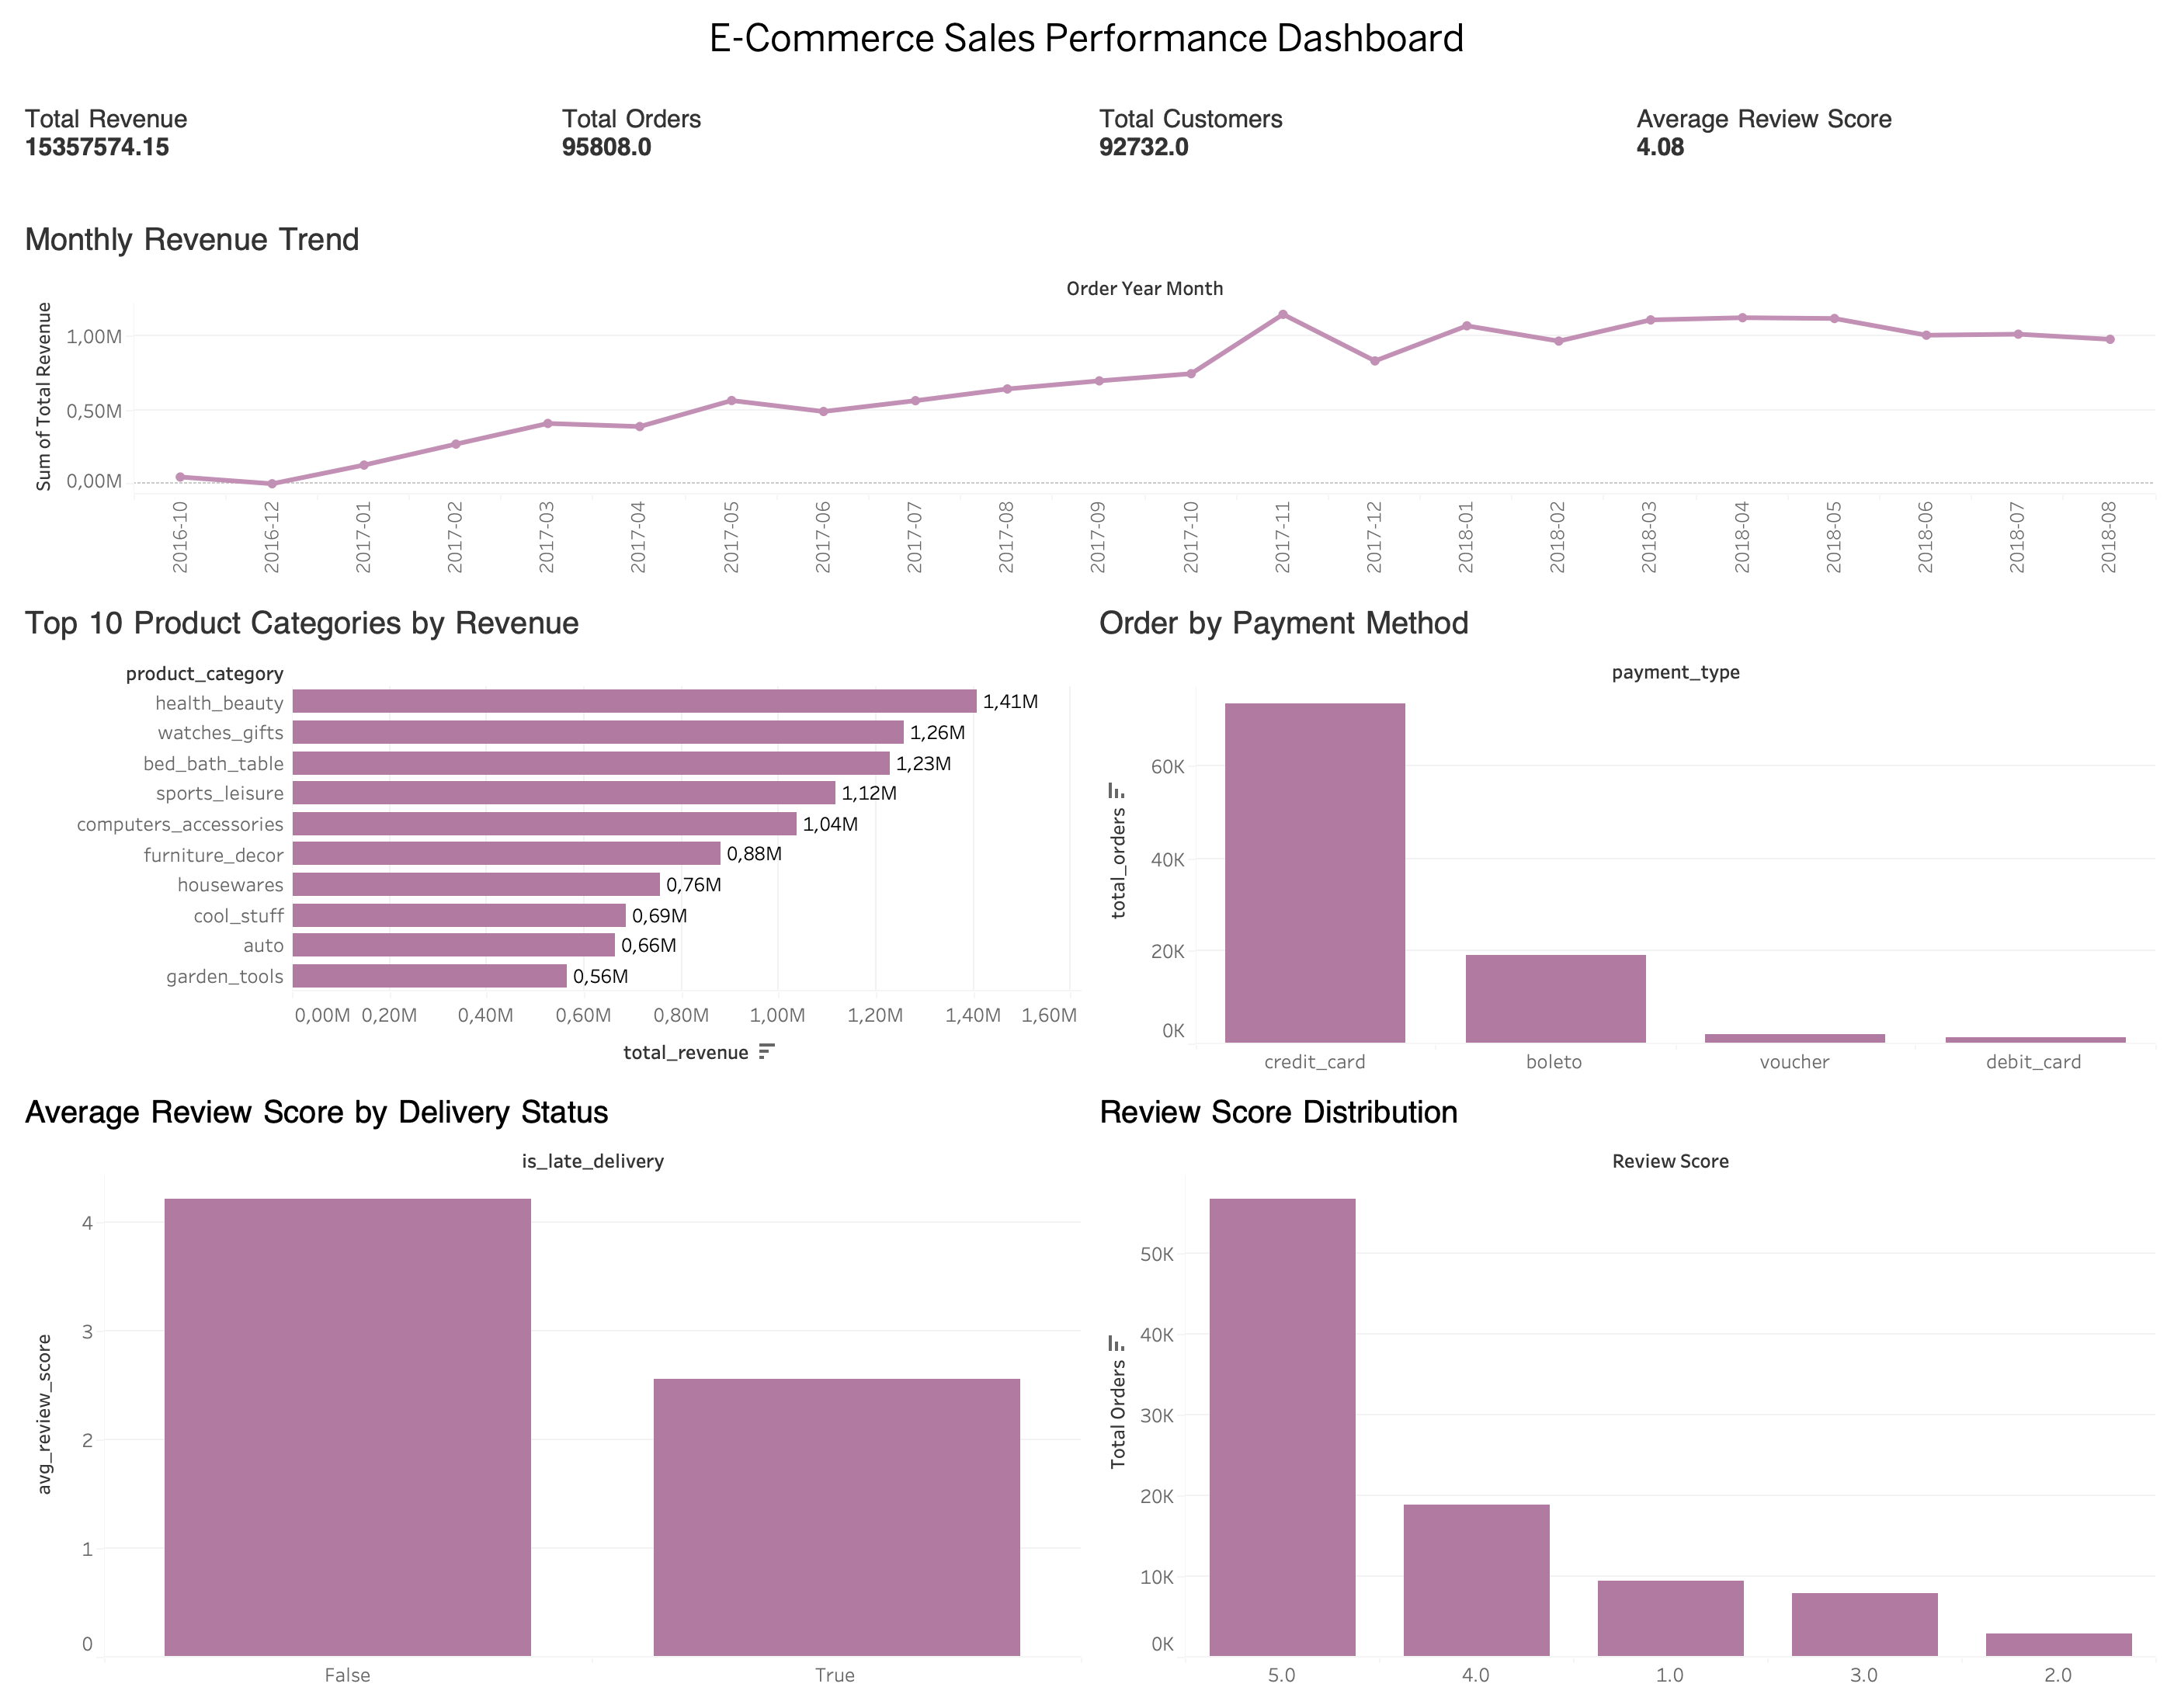

The dashboard page shown, as its layout file describes it:
{"tool":"tableau","page":{"name":"Dashboard 1","canvas":[1400,1100],"ordinal":0},"visuals":[{"type":"title","box":[8,8,1384,32]},{"type":"worksheet","title":"Sheet 8","mark":"Automatic","box":[8,40,346,95]},{"type":"worksheet","title":"Sheet 9","mark":"Automatic","box":[354,40,346,95]},{"type":"worksheet","title":"Sheet 10","mark":"Automatic","box":[700,40,346,95]},{"type":"worksheet","title":"Sheet 11","mark":"Automatic","box":[1046,40,346,95]},{"type":"worksheet","title":"Sheet 1","mark":"Line","rows":["total_revenue"],"cols":["order_year_month"],"box":[8,135,1384,247]},{"type":"worksheet","title":"Sheet 2","mark":"Bar","rows":["product_category"],"cols":["total_revenue"],"box":[8,382,692,315]},{"type":"worksheet","title":"Sheet 3","mark":"Automatic","rows":["total_orders"],"cols":["payment_type"],"box":[700,382,692,315]},{"type":"worksheet","title":"Sheet 5","mark":"Automatic","rows":["avg_review_score"],"cols":["is_late_delivery"],"box":[8,697,692,395]},{"type":"worksheet","title":"Sheet 4","mark":"Automatic","rows":["total_orders"],"cols":["review_score"],"box":[700,697,692,395]}]}

Visuals, with their boxes in screenshot pixels (x1, y1, x2, y2), scaled from the page's 1400x1100 canvas onto the 2174x1708 screenshot:
title: rect(12, 12, 2162, 62)
"Sheet 8" worksheet: rect(12, 62, 550, 210)
"Sheet 9" worksheet: rect(550, 62, 1087, 210)
"Sheet 10" worksheet: rect(1087, 62, 1624, 210)
"Sheet 11" worksheet: rect(1624, 62, 2162, 210)
"Sheet 1" worksheet (Line marks): rect(12, 210, 2162, 593)
"Sheet 2" worksheet (Bar marks): rect(12, 593, 1087, 1082)
"Sheet 3" worksheet: rect(1087, 593, 2162, 1082)
"Sheet 5" worksheet: rect(12, 1082, 1087, 1696)
"Sheet 4" worksheet: rect(1087, 1082, 2162, 1696)
